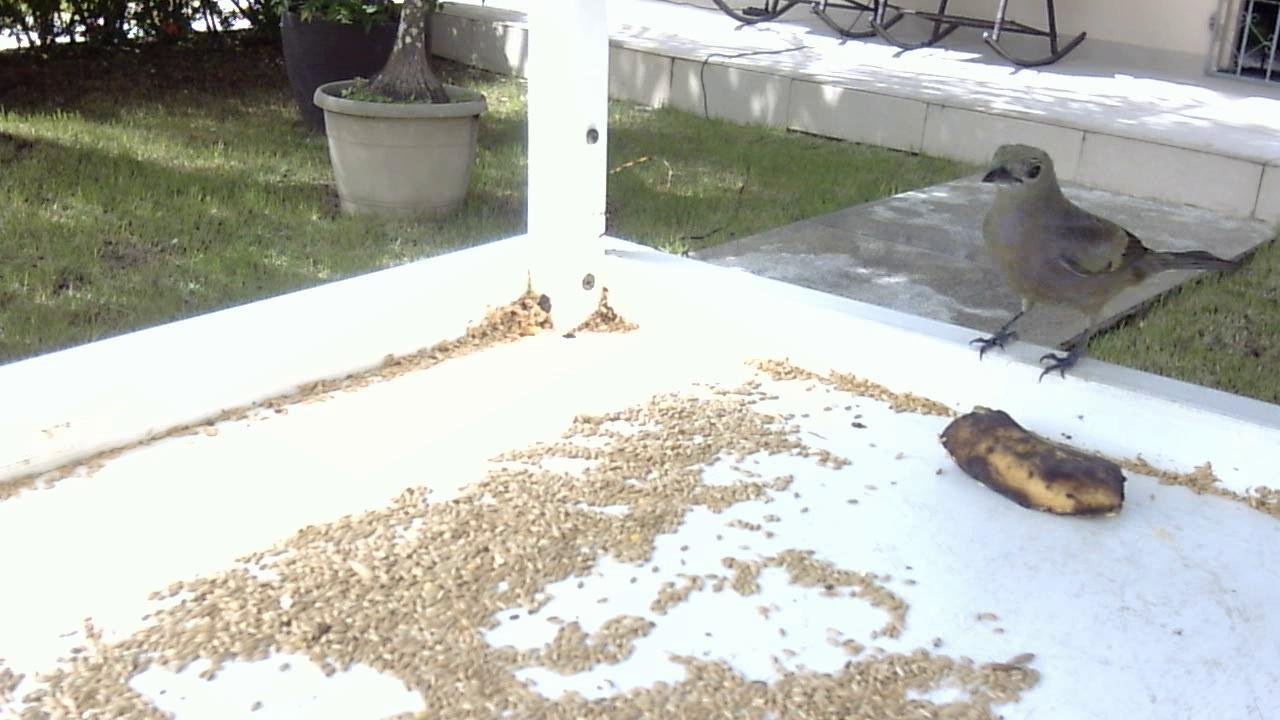sanhaco_do_coqueiro: (948, 132, 1261, 389)
